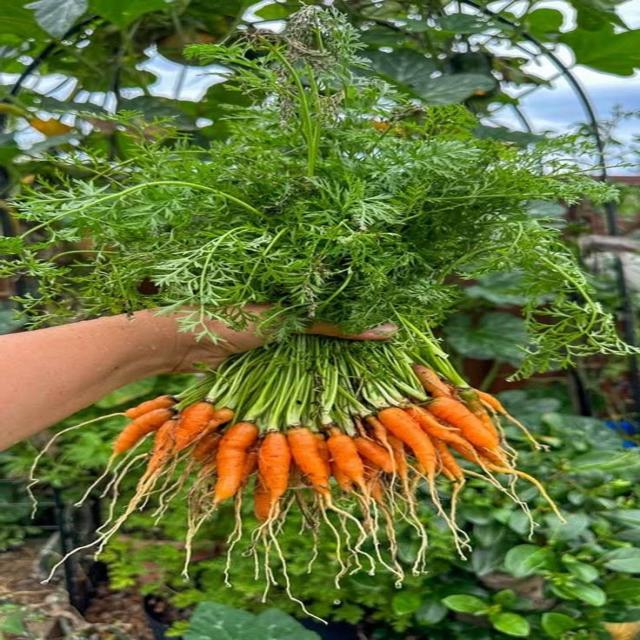carrot: (378, 408, 436, 480), (474, 390, 543, 448), (405, 406, 477, 460), (428, 398, 499, 450), (214, 422, 258, 504), (287, 427, 330, 495), (114, 409, 174, 455), (327, 428, 365, 488), (259, 431, 291, 501), (458, 388, 499, 441), (175, 402, 215, 453), (146, 418, 177, 474), (354, 437, 394, 473), (433, 439, 464, 480), (125, 395, 177, 419), (414, 365, 453, 397), (387, 434, 408, 480), (192, 432, 221, 464), (474, 390, 508, 416), (254, 474, 272, 522), (365, 465, 384, 504), (206, 408, 233, 433), (315, 434, 331, 476), (331, 462, 353, 492), (366, 415, 387, 446), (241, 449, 258, 486)
